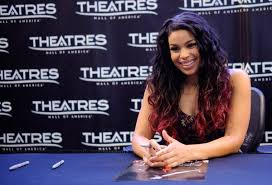middle_eastern_Female: (167, 31, 204, 76)
